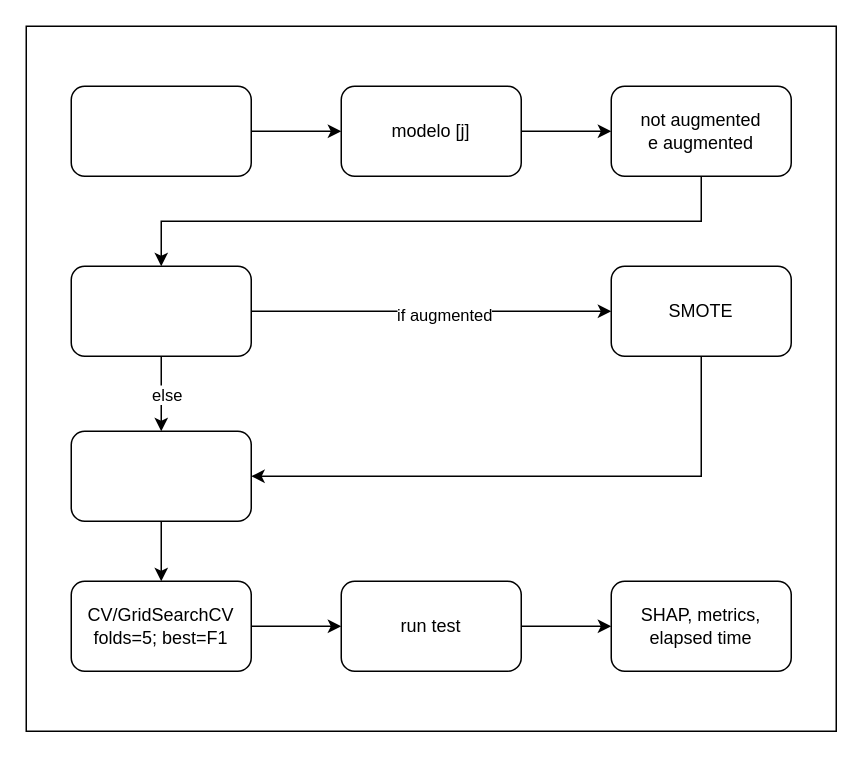
This 863x758 diagram has some shape labels left out. The centre of each missing label's shape, as x and y in pixels:
"feature set [i]" belongs at (160,130).
"Hold-out 80/20" belongs at (160,475).
"transformação + Padronização" belongs at (160,310).
